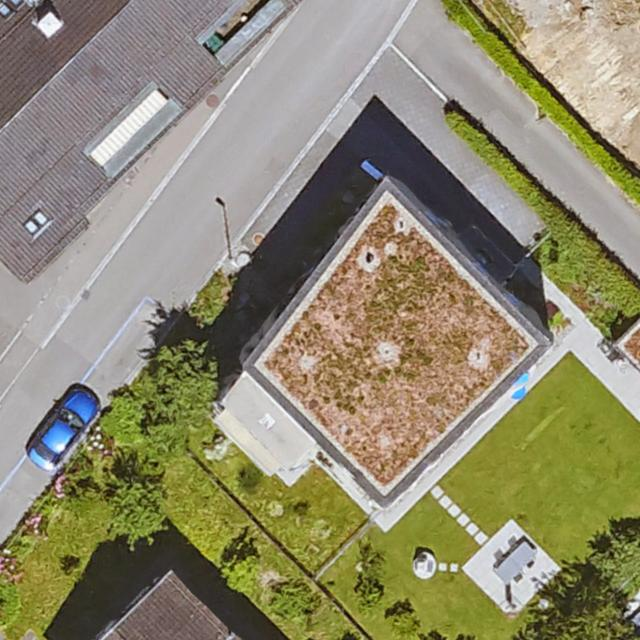tree: (520, 587, 637, 640), (144, 341, 221, 417), (106, 479, 166, 541), (594, 522, 640, 594)
